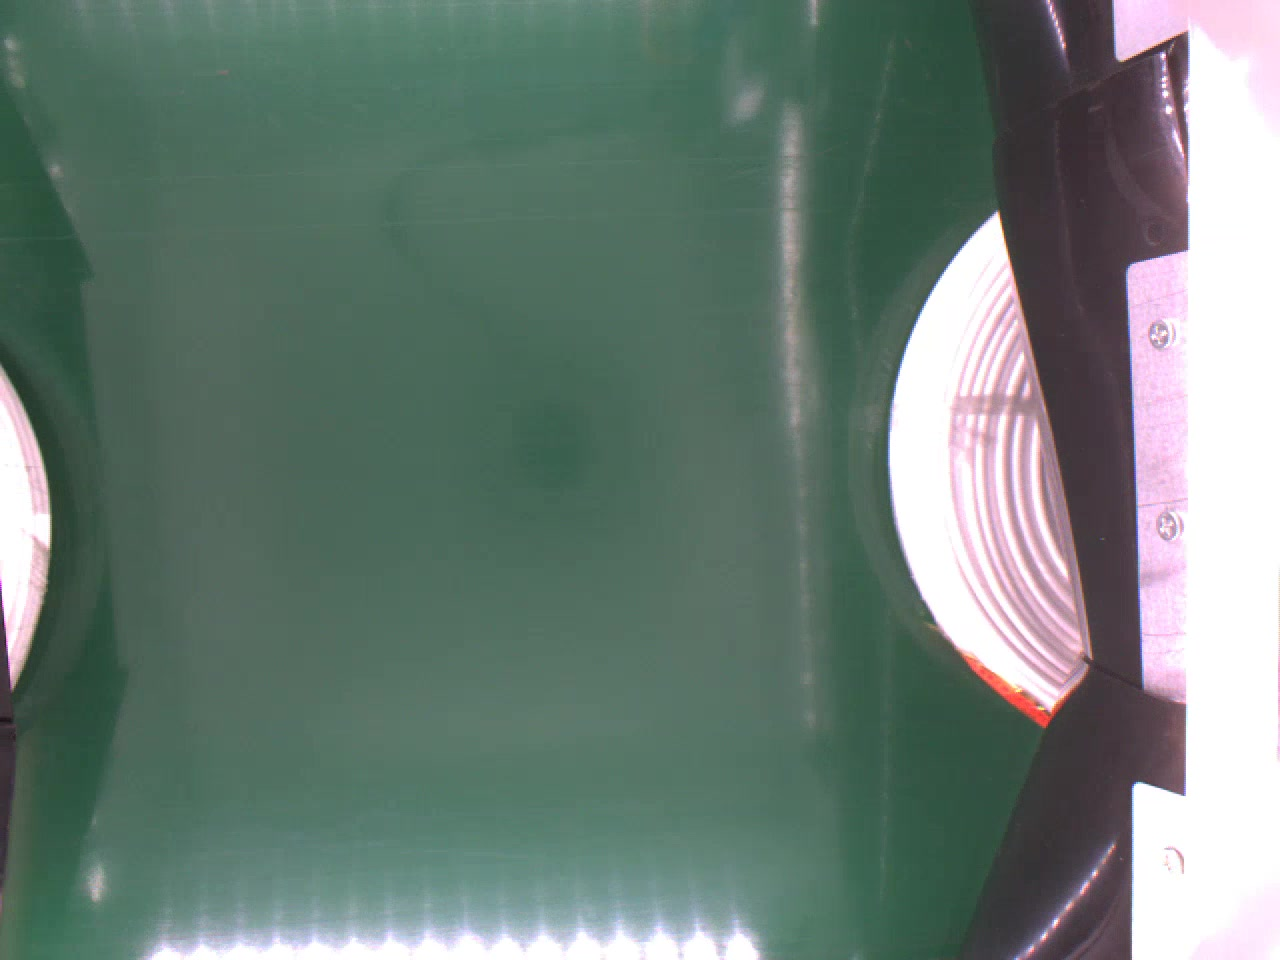white: (884, 209, 1089, 726)
